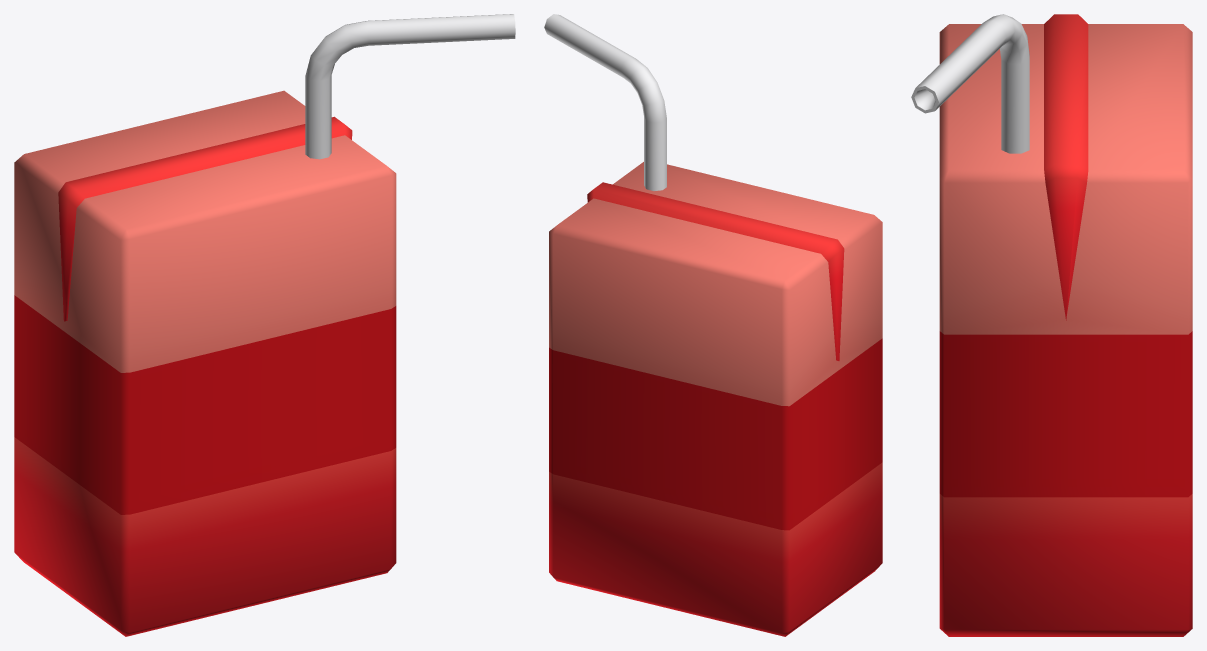
File: Juice_mini_red.fbx
The picture shows the model from 3 angles, left to right: view 1: azimuth 30°, elevation 25°; view 2: azimuth 150°, elevation 25°; view 3: azimuth 270°, elevation 25°; orthographic projection. The views are drawn at different scales.
Visible parts, largest first — view 1: Juice_mini_red, Juice_mini_red.001; view 2: Juice_mini_red, Juice_mini_red.001; view 3: Juice_mini_red, Juice_mini_red.001.
Part boxes in pixels (x1,y1,x2,y2): Juice_mini_red: (14, 90, 396, 636); Juice_mini_red.001: (305, 14, 515, 159); Juice_mini_red: (549, 162, 882, 636); Juice_mini_red.001: (544, 14, 666, 190); Juice_mini_red: (939, 14, 1192, 636); Juice_mini_red.001: (911, 14, 1029, 153).
Bounding box in the file's own units: 113 × 147 × 61.05.
